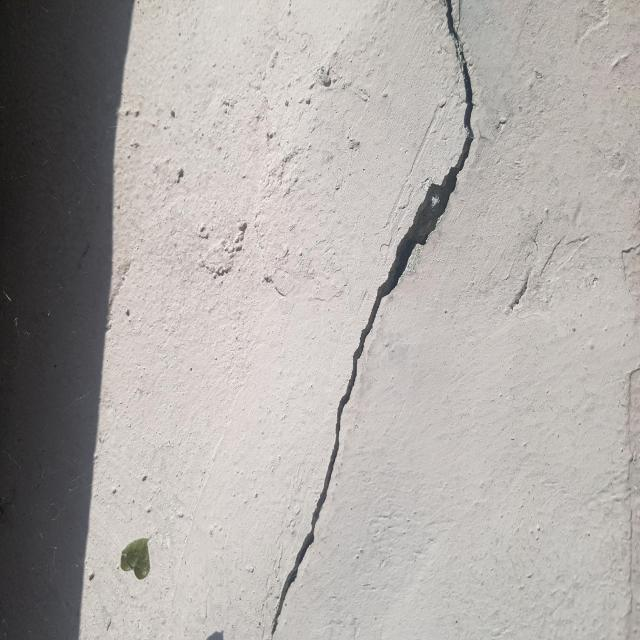SurfaceCrack: (224, 1, 500, 640)
